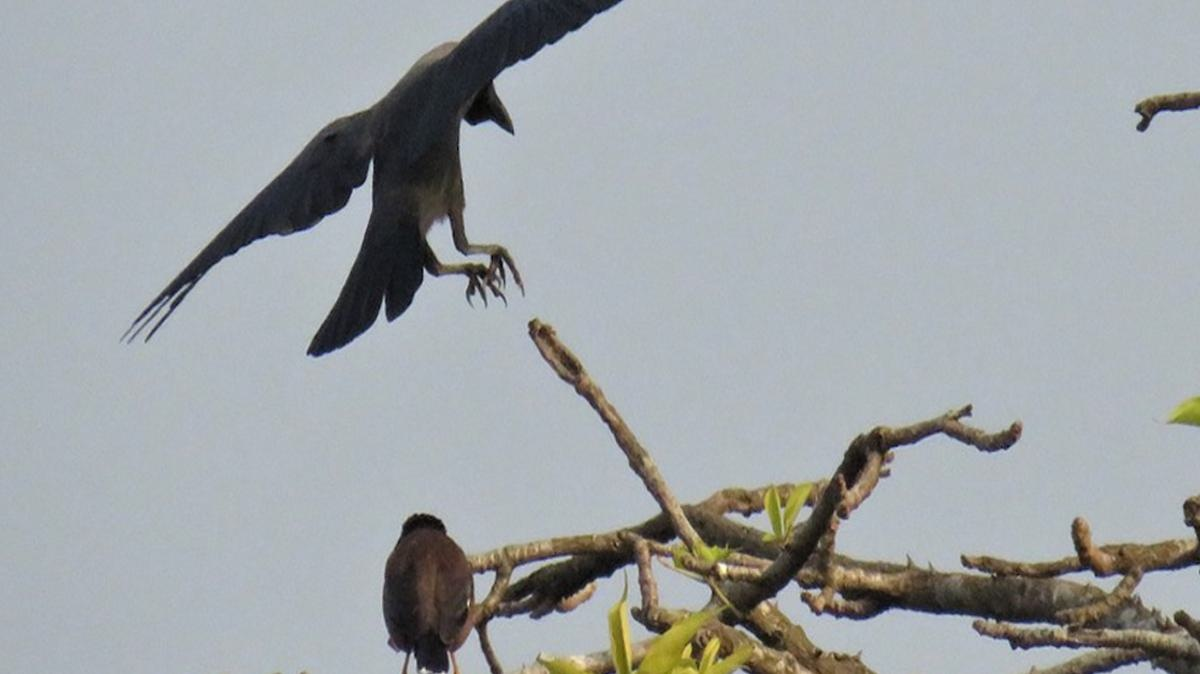crow: (115, 1, 691, 374)
